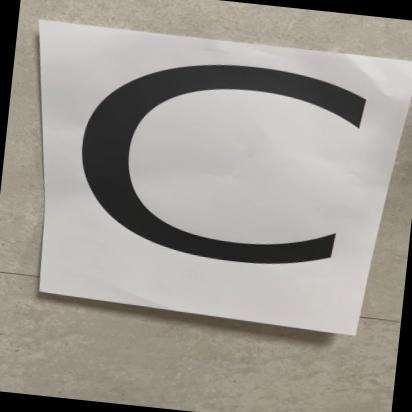seat: (39, 22, 402, 342)
